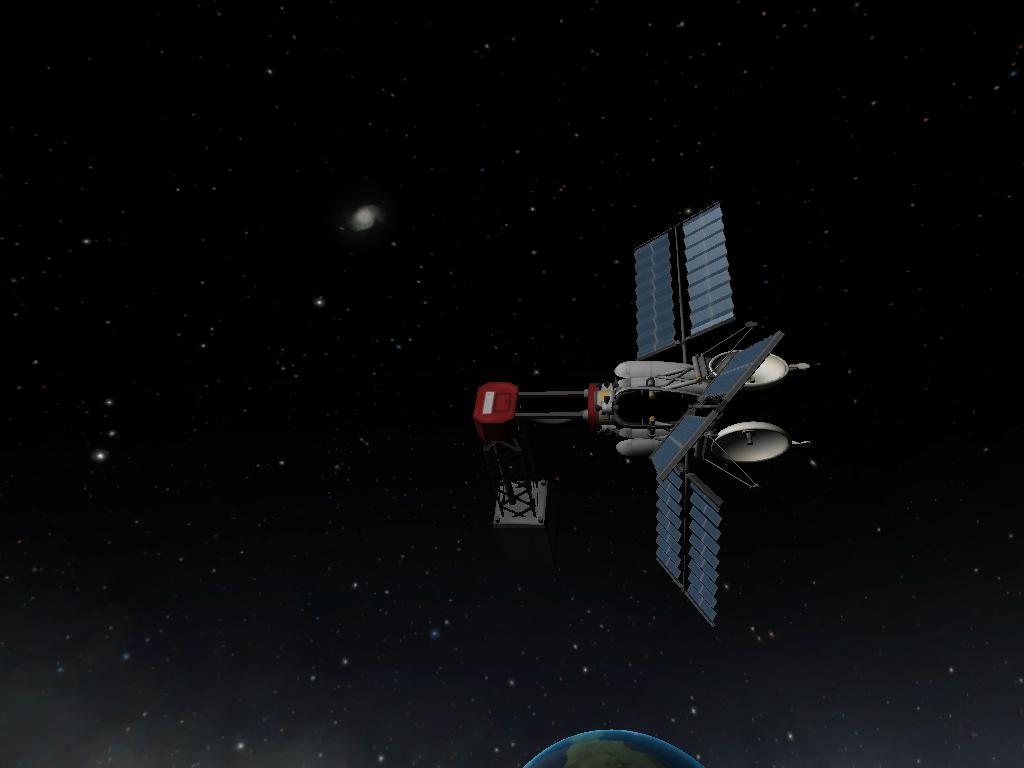antenna: (713, 420, 787, 463), (700, 349, 791, 383)
body: (469, 340, 715, 481)
solar: (647, 334, 787, 484), (628, 199, 740, 361), (651, 465, 722, 634)
thruster: (602, 394, 611, 404), (603, 380, 611, 389), (612, 404, 621, 412), (604, 427, 611, 436), (595, 381, 602, 389), (595, 404, 602, 412), (603, 413, 611, 420), (595, 429, 602, 435), (614, 382, 619, 389), (614, 429, 620, 434)
